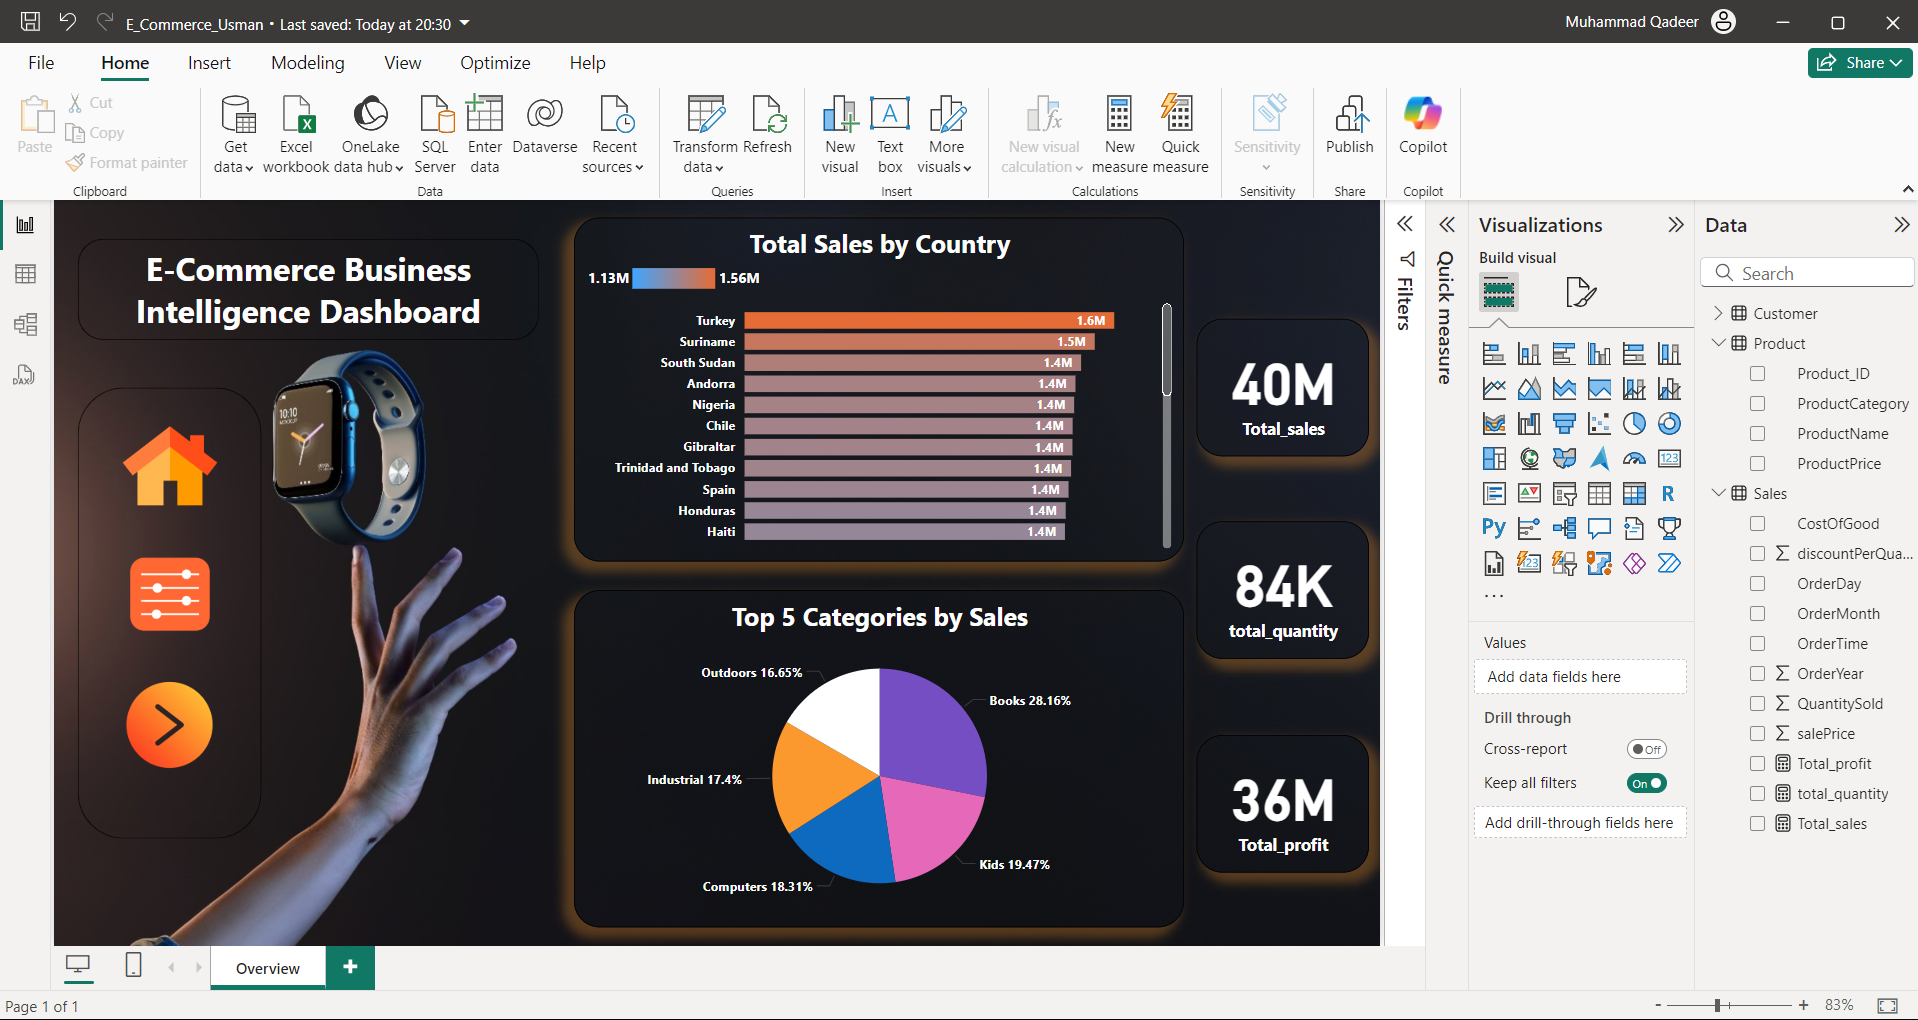

What the dashboard file says about the page in this screenshot:
{"tool":"powerbi","page":{"name":"Overview","canvas":[1280,720],"ordinal":0},"visuals":[{"type":"shape","box":[9.6,17.8,432.2,97.4],"z":0},{"type":"clusteredBarChart","title":"Total Sales by Country","fields":{"Y":["Sum(Sales.salePrice)"],"Category":["Customer.CustomerCountry"]},"box":[467.9,16.5,623,332.1],"z":1000},{"type":"pieChart","title":"Top 5 Categories by Sales","fields":{"Y":["Sum(Sales.salePrice)"],"Category":["Product.ProductCategory"]},"box":[468.1,376.4,622.5,318.5],"z":2000},{"type":"card","fields":{"Values":["Sales.Total_sales"]},"box":[1102.7,114.6,166.5,132.7],"z":3000},{"type":"card","fields":{"Values":["Sales.total_quantity"]},"box":[1102.7,310.1,166.5,132.7],"z":4000},{"type":"card","fields":{"Values":["Sales.Total_profit"]},"box":[1102.7,516.4,166.5,132.7],"z":5000},{"type":"shape","box":[23.3,181.1,118,444.6],"z":6000},{"type":"image","box":[48.3,183.4,66.4,109.8],"z":7000},{"type":"image","box":[50.7,293.2,63.9,105],"z":8000},{"type":"image","box":[39.8,389.7,84.5,143.6],"z":9000},{"type":"slicer","fields":{"Values":["Sales.OrderYear"]},"box":[160.5,218.2,269,60.4],"z":10000},{"type":"slicer","fields":{"Values":["Product.ProductName"]},"box":[160.5,310.1,269,60.4],"z":11000},{"type":"slicer","fields":{"Values":["Customer.CustomerContinent"]},"box":[160.5,403.4,269,60.4],"z":12000},{"type":"slicer","fields":{"Values":["Customer.CustomerGender"]},"box":[160.5,503.6,269,60.4],"z":13000},{"type":"image","box":[380.1,533.8,61.7,167.4],"z":14000},{"type":"image","box":[45.3,461.1,74.1,212.7],"z":15000}]}

Visuals, with their boxes on the page's 1280x720 design canvas (x1, y1, x2, y2). These are canvas units, not pixel positions in the 1918x1020 screenshot, which may show the page scaled, cropped or inside an application window:
shape: [left=10, top=18, right=442, bottom=115]
"Total Sales by Country" clusteredBarChart: [left=468, top=16, right=1091, bottom=349]
"Top 5 Categories by Sales" pieChart: [left=468, top=376, right=1091, bottom=695]
card - Sales.Total_sales: [left=1103, top=115, right=1269, bottom=247]
card - Sales.total_quantity: [left=1103, top=310, right=1269, bottom=443]
card - Sales.Total_profit: [left=1103, top=516, right=1269, bottom=649]
shape: [left=23, top=181, right=141, bottom=626]
image: [left=48, top=183, right=115, bottom=293]
image: [left=51, top=293, right=115, bottom=398]
image: [left=40, top=390, right=124, bottom=533]
slicer - Sales.OrderYear: [left=160, top=218, right=430, bottom=279]
slicer - Product.ProductName: [left=160, top=310, right=430, bottom=370]
slicer - Customer.CustomerContinent: [left=160, top=403, right=430, bottom=464]
slicer - Customer.CustomerGender: [left=160, top=504, right=430, bottom=564]
image: [left=380, top=534, right=442, bottom=701]
image: [left=45, top=461, right=119, bottom=674]
